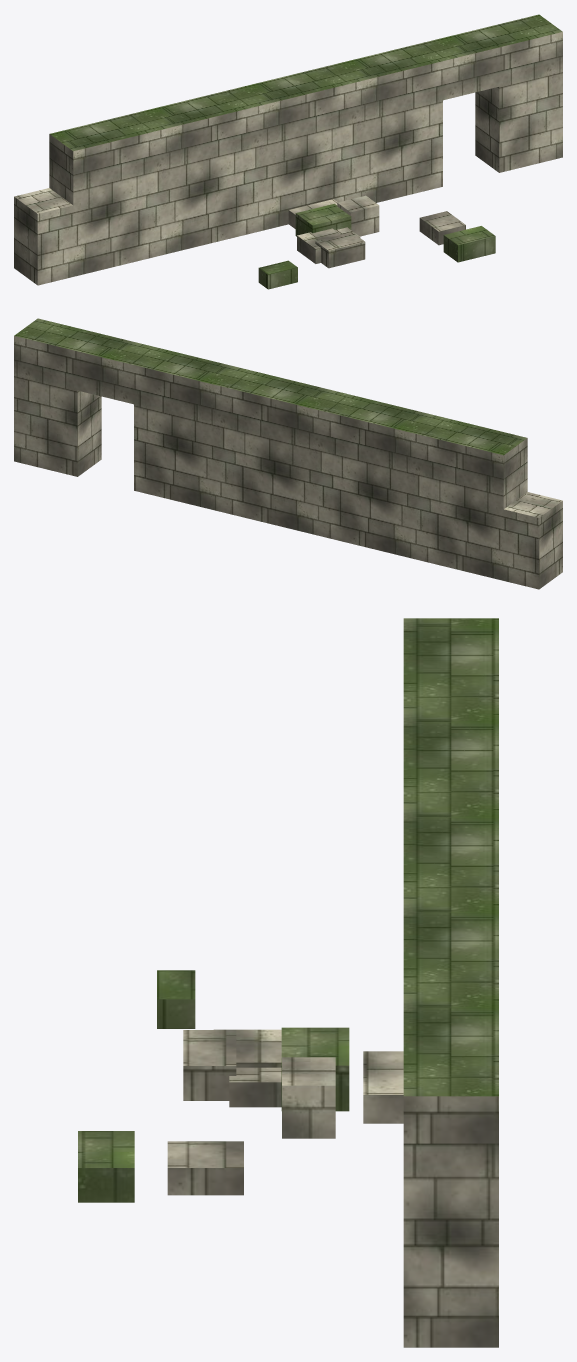
File: ruin-wall-long.ruins-v1.lod1.glb
3 views of the same model, one above another, from view 1: azimuth 30°, elevation 25°; view 2: azimuth 150°, elevation 25°; view 3: azimuth 270°, elevation 25° (orthographic). The views are drawn at different scales.
Visible parts, largest first — view 1: ruin-wall-long; view 2: ruin-wall-long; view 3: ruin-wall-long.
Boxes of the visible parts, x1,y1,x2,y2 form: ruin-wall-long: (14, 14, 562, 289); ruin-wall-long: (14, 318, 562, 589); ruin-wall-long: (78, 618, 498, 1347).
Bounding box in the file's own units: 14 × 3.2 × 4.86.
2 materials, 2 textured.
